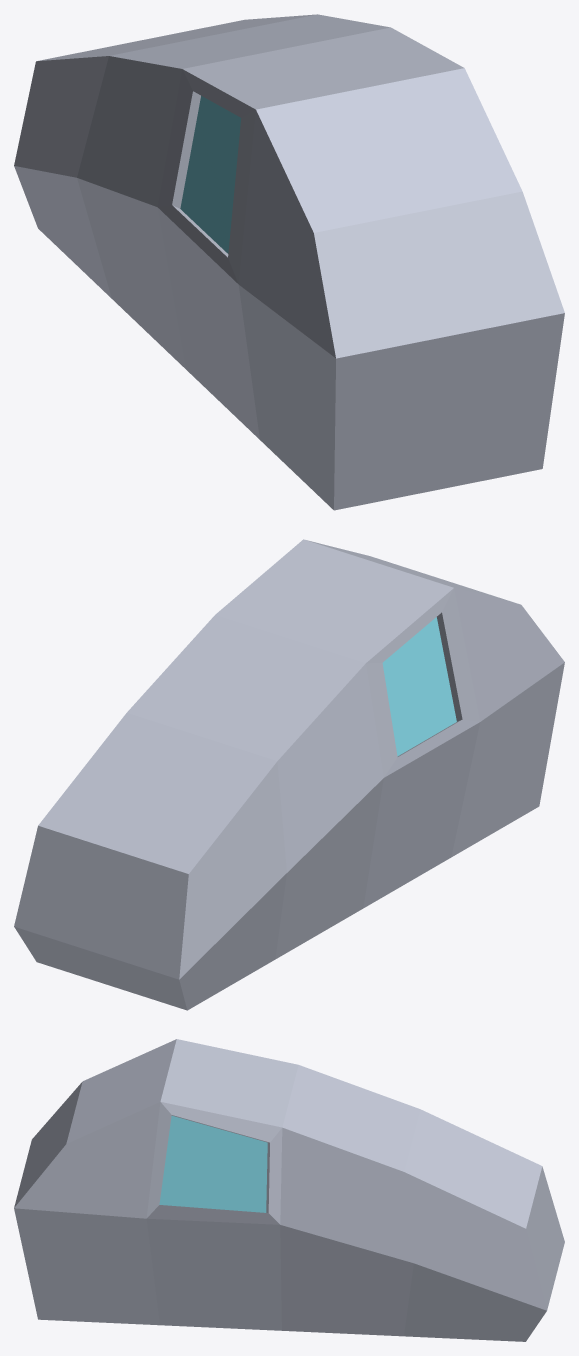
File: Car b.fbx
The picture shows the model from 3 angles, top to bottom: view 1: azimuth 30°, elevation 25°; view 2: azimuth 150°, elevation 25°; view 3: azimuth 270°, elevation 25°; orthographic projection. The views are drawn at different scales.
Visible parts, largest first — view 1: Cube.013; view 2: Cube.013; view 3: Cube.013.
Part boxes in pixels (x1,y1,x2,y2): Cube.013: (14,14,564,510); Cube.013: (14,539,564,1010); Cube.013: (14,1039,564,1341).
Bounding box in the file's own units: 309 × 339 × 756.
